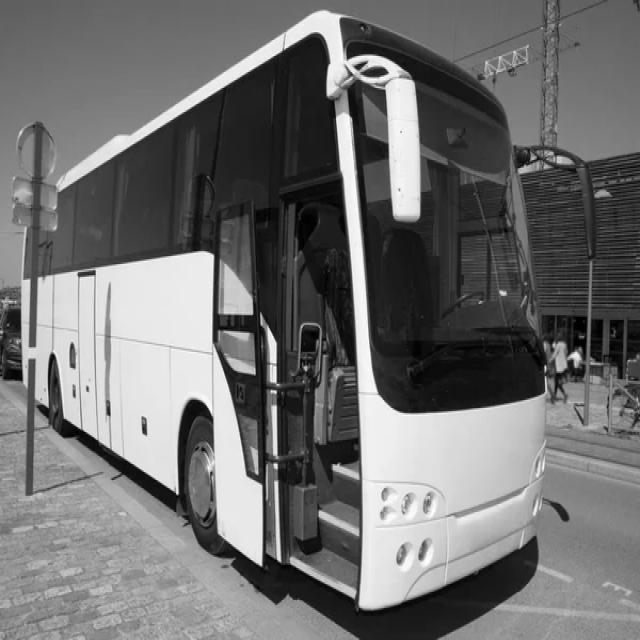Bus: (35, 11, 547, 611)
